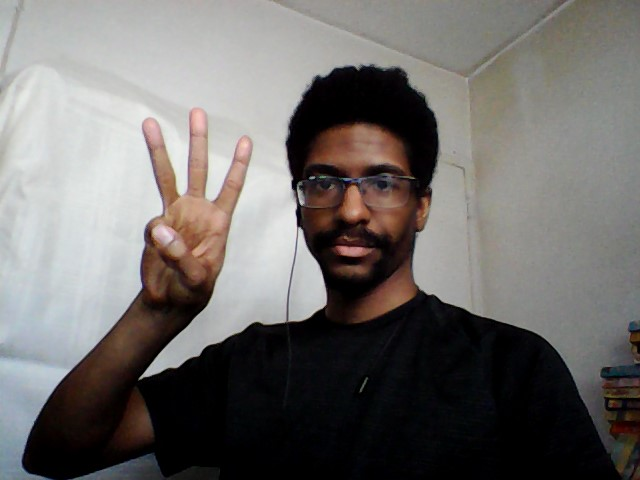w: (138, 105, 257, 307)
